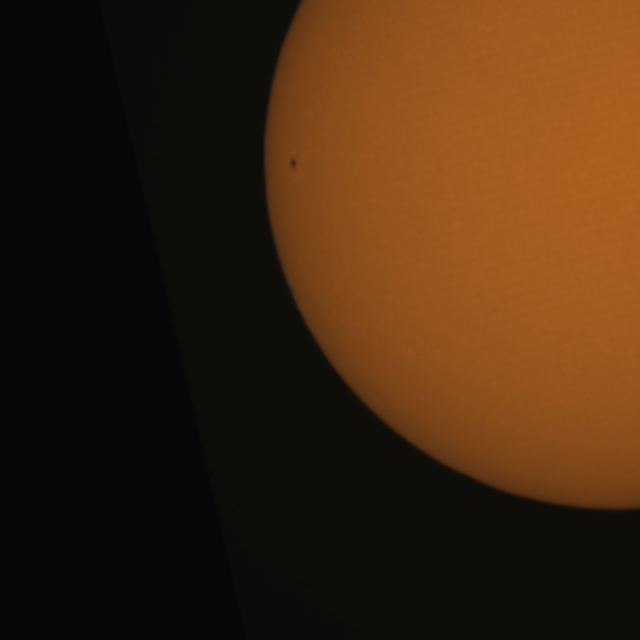sunspot: (288, 154, 299, 173)
